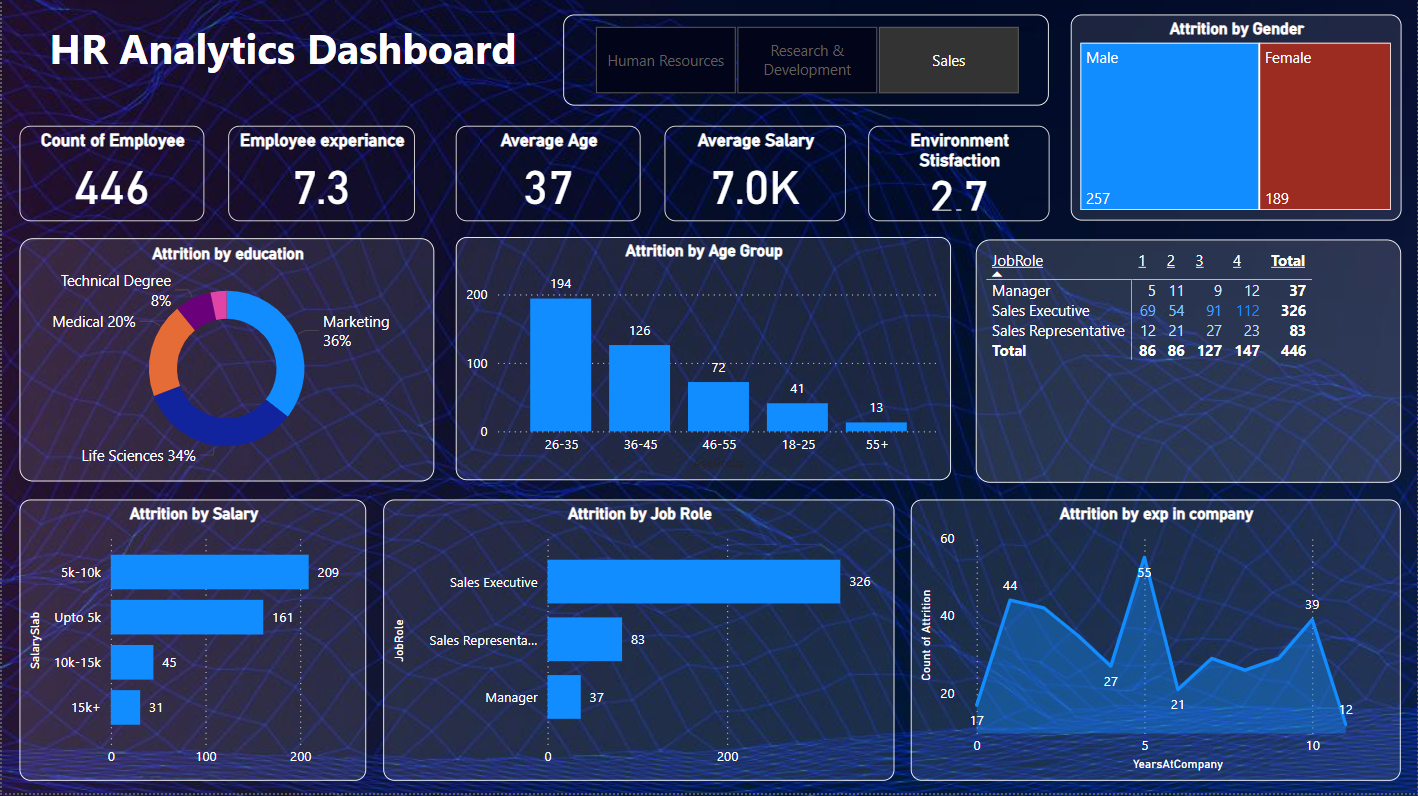

What the dashboard file says about the page in this screenshot:
{"tool":"powerbi","page":{"name":"Page 1","canvas":[1280,720],"ordinal":0},"visuals":[{"type":"card","title":"Count of Employee","fields":{"Values":["CountNonNull(HR_Analytics.EmpID)"]},"box":[16.3,116.3,167.4,86],"z":0},{"type":"card","title":"Employee experiance","fields":{"Values":["Avg(HR_Analytics.YearsAtCompany)"]},"box":[204.7,116.3,168.6,86],"z":1000},{"type":"card","title":"Average Age","fields":{"Values":["Avg(HR_Analytics.Age)"]},"box":[410.5,116.3,167.4,86],"z":2000},{"type":"card","title":"Average Salary","fields":{"Values":["Avg(HR_Analytics.MonthlyIncome)"]},"box":[598.8,116.3,164,86],"z":3000},{"type":"card","title":"Environment Stisfaction","fields":{"Values":["Avg(HR_Analytics.EnvironmentSatisfaction)"]},"box":[783.7,116.3,164,86],"z":4000},{"type":"donutChart","title":"Attrition by education","fields":{"Category":["HR_Analytics.EducationField"],"Y":["CountNonNull(HR_Analytics.Attrition)"]},"box":[16.3,218.6,375.6,219.8],"z":5000},{"type":"columnChart","title":"Attrition by Age Group","fields":{"Category":["HR_Analytics.AgeGroup"],"Y":["CountNonNull(HR_Analytics.Attrition)"]},"box":[410.5,217.4,447.7,219.8],"z":6000},{"type":"pivotTable","fields":{"Rows":["HR_Analytics.JobRole"],"Columns":["HR_Analytics.JobSatisfaction"],"Values":["Sum(HR_Analytics.EmployeeCount)"]},"box":[880.2,219.8,384.9,219.8],"z":7000},{"type":"barChart","title":"Attrition by Salary","fields":{"Category":["HR_Analytics.SalarySlab"],"Y":["CountNonNull(HR_Analytics.Attrition)"]},"box":[16.3,454.7,314,254.7],"z":8000},{"type":"barChart","title":"Attrition by Job Role","fields":{"Category":["HR_Analytics.JobRole"],"Y":["CountNonNull(HR_Analytics.Attrition)"]},"box":[345.3,454.7,462.8,254.7],"z":9000},{"type":"areaChart","title":"Attrition by exp in company","fields":{"Category":["HR_Analytics.YearsAtCompany"],"Y":["CountNonNull(HR_Analytics.Attrition)"]},"box":[822.1,454.7,443,254.7],"z":10000},{"type":"treemap","title":"Attrition by Gender","fields":{"Group":["HR_Analytics.Gender"],"Values":["CountNonNull(HR_Analytics.Attrition)"]},"box":[966.3,16.3,298.8,186],"z":11000},{"type":"slicer","fields":{"Values":["HR_Analytics.Department"]},"box":[508.1,16.3,439.5,82.6],"z":12000},{"type":"textbox","box":[16.3,16.3,476.7,65.1],"z":13000}]}

Visuals, with their boxes in screenshot pixels (x1, y1, x2, y2), scaled from the page's 1280x720 canvas onto the 1418x796 screenshot:
"Count of Employee" card: select_region(18, 129, 204, 224)
"Employee experiance" card: select_region(227, 129, 414, 224)
"Average Age" card: select_region(455, 129, 640, 224)
"Average Salary" card: select_region(663, 129, 845, 224)
"Environment Stisfaction" card: select_region(868, 129, 1050, 224)
"Attrition by education" donutChart: select_region(18, 242, 434, 485)
"Attrition by Age Group" columnChart: select_region(455, 240, 951, 483)
pivotTable - HR_Analytics.JobRole x HR_Analytics.JobSatisfaction: select_region(975, 243, 1401, 486)
"Attrition by Salary" barChart: select_region(18, 503, 366, 784)
"Attrition by Job Role" barChart: select_region(383, 503, 895, 784)
"Attrition by exp in company" areaChart: select_region(911, 503, 1401, 784)
"Attrition by Gender" treemap: select_region(1070, 18, 1401, 224)
slicer - HR_Analytics.Department: select_region(563, 18, 1050, 109)
textbox: select_region(18, 18, 546, 90)
